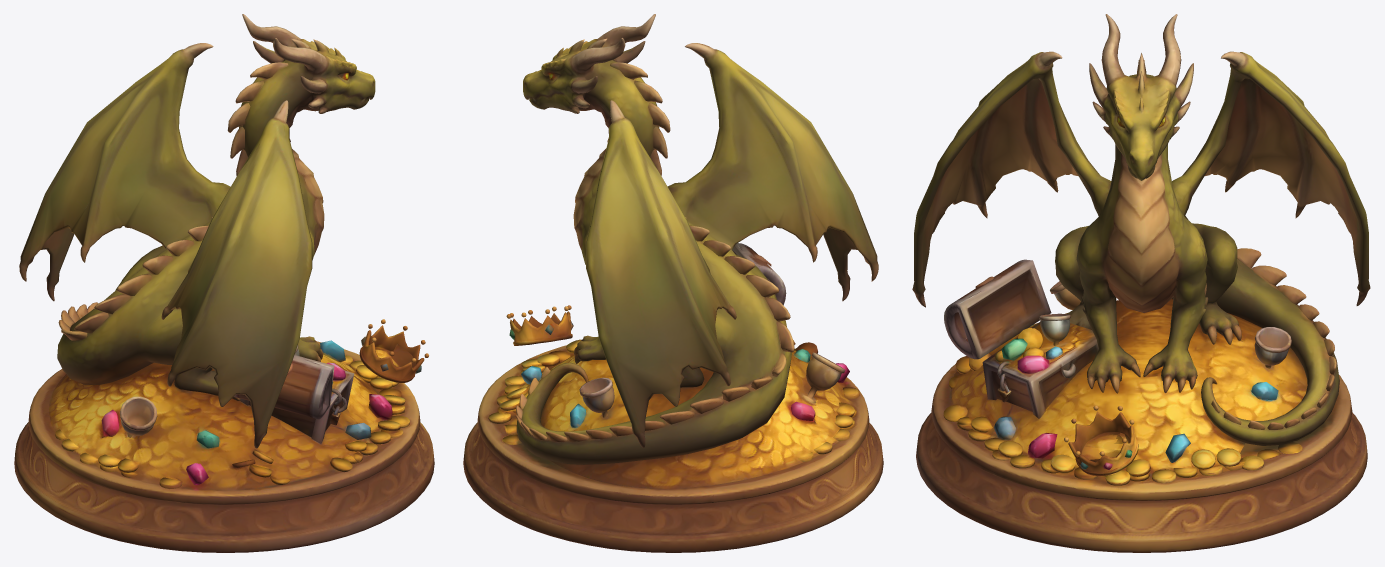
File: 25-dragonhoard.glb
The picture shows the model from 3 angles, left to right: view 1: azimuth 30°, elevation 25°; view 2: azimuth 150°, elevation 25°; view 3: azimuth 270°, elevation 25°; orthographic projection. The views are drawn at different scales.
Parts seen in each view (by area): view 1: tripo_node_e7cbc5e1-3899-4b77-b6b3-13879a4c273b; view 2: tripo_node_e7cbc5e1-3899-4b77-b6b3-13879a4c273b; view 3: tripo_node_e7cbc5e1-3899-4b77-b6b3-13879a4c273b.
Boxes of the visible parts, left/top/right/bottom form: tripo_node_e7cbc5e1-3899-4b77-b6b3-13879a4c273b: left=14, top=14, right=434, bottom=552; tripo_node_e7cbc5e1-3899-4b77-b6b3-13879a4c273b: left=463, top=14, right=883, bottom=552; tripo_node_e7cbc5e1-3899-4b77-b6b3-13879a4c273b: left=912, top=14, right=1370, bottom=552.
Bounding box in the file's own units: 0.8843 × 0.9995 × 0.896.
Materials: 1 (1 with a texture image).
